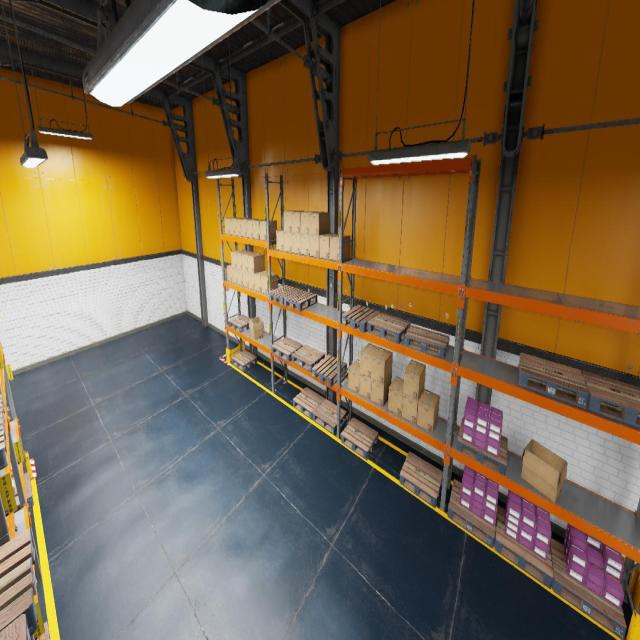box: (521, 439, 567, 503), (417, 389, 440, 433), (403, 360, 426, 400), (402, 390, 424, 424), (372, 348, 392, 384), (360, 343, 380, 378), (388, 376, 404, 417), (371, 374, 391, 406), (330, 234, 350, 260), (319, 233, 339, 259), (309, 212, 329, 235), (348, 359, 360, 394), (291, 211, 310, 233), (300, 212, 318, 234), (261, 272, 278, 294), (259, 220, 277, 240), (249, 316, 264, 339), (359, 373, 371, 400), (248, 253, 264, 273), (283, 210, 297, 232), (246, 219, 262, 238), (236, 250, 251, 270), (254, 271, 268, 292), (240, 219, 256, 237), (242, 252, 257, 271), (235, 218, 250, 236), (231, 250, 245, 268), (253, 219, 265, 239), (229, 218, 243, 235), (300, 233, 310, 256), (224, 217, 237, 234), (310, 235, 319, 257), (292, 232, 300, 254), (276, 229, 284, 251), (284, 232, 292, 252), (248, 272, 255, 290), (242, 270, 249, 288), (10, 452, 20, 464), (237, 269, 243, 286), (227, 264, 232, 282), (232, 267, 237, 284), (10, 462, 14, 478), (12, 479, 16, 493)
pallets: (550, 538, 626, 640), (494, 506, 554, 588), (0, 529, 37, 636), (519, 353, 589, 408), (448, 479, 497, 548), (582, 370, 640, 428), (457, 417, 508, 475), (399, 451, 443, 508), (341, 417, 378, 460), (404, 325, 449, 359), (368, 312, 410, 343), (313, 399, 347, 434), (342, 304, 380, 332), (312, 355, 346, 386), (292, 387, 324, 419), (292, 344, 324, 372), (271, 336, 303, 362), (0, 614, 31, 639), (284, 290, 317, 311), (268, 285, 300, 305), (231, 350, 257, 371), (228, 314, 251, 332), (0, 418, 8, 469), (24, 472, 34, 508), (0, 394, 6, 432), (42, 622, 50, 640)
